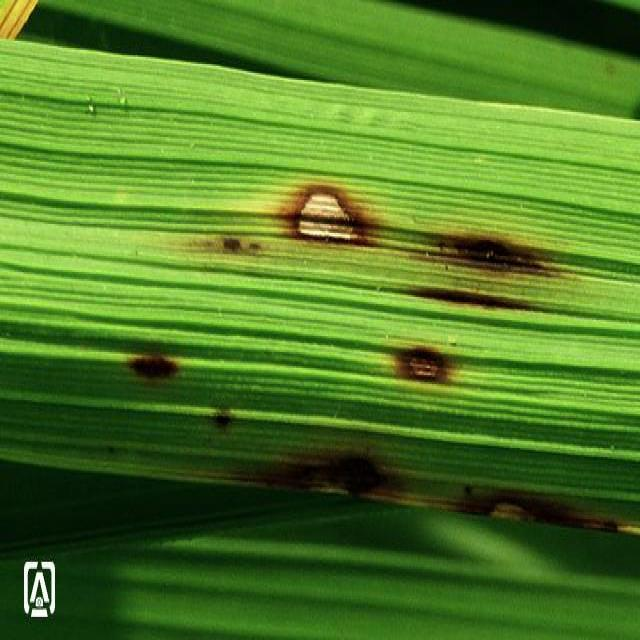Rice_Brownspot: (423, 220, 578, 296), (278, 162, 382, 250), (292, 437, 414, 503), (385, 316, 469, 386), (118, 338, 195, 382)
